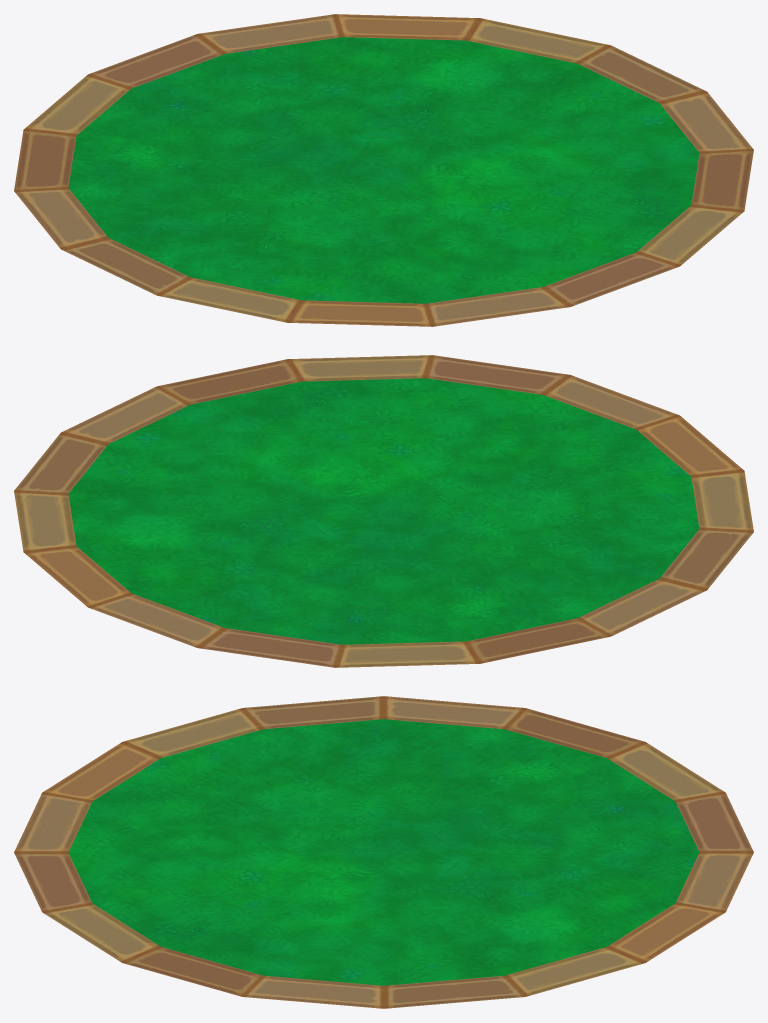
The model's file is Ground01_b02.FBX.
3 views of the same model, one above another, from view 1: azimuth 30°, elevation 25°; view 2: azimuth 150°, elevation 25°; view 3: azimuth 270°, elevation 25° (orthographic).
Parts seen in each view (by area): view 1: Ground01_b02; view 2: Ground01_b02; view 3: Ground01_b02.
Part boxes in pixels (left/top/right/bottom): Ground01_b02: left=14, top=14, right=753, bottom=326; Ground01_b02: left=14, top=355, right=753, bottom=667; Ground01_b02: left=14, top=696, right=753, bottom=1008.
Size of the model in its own units: 430 by 0.000109 by 430.
2 materials, 2 textured.
